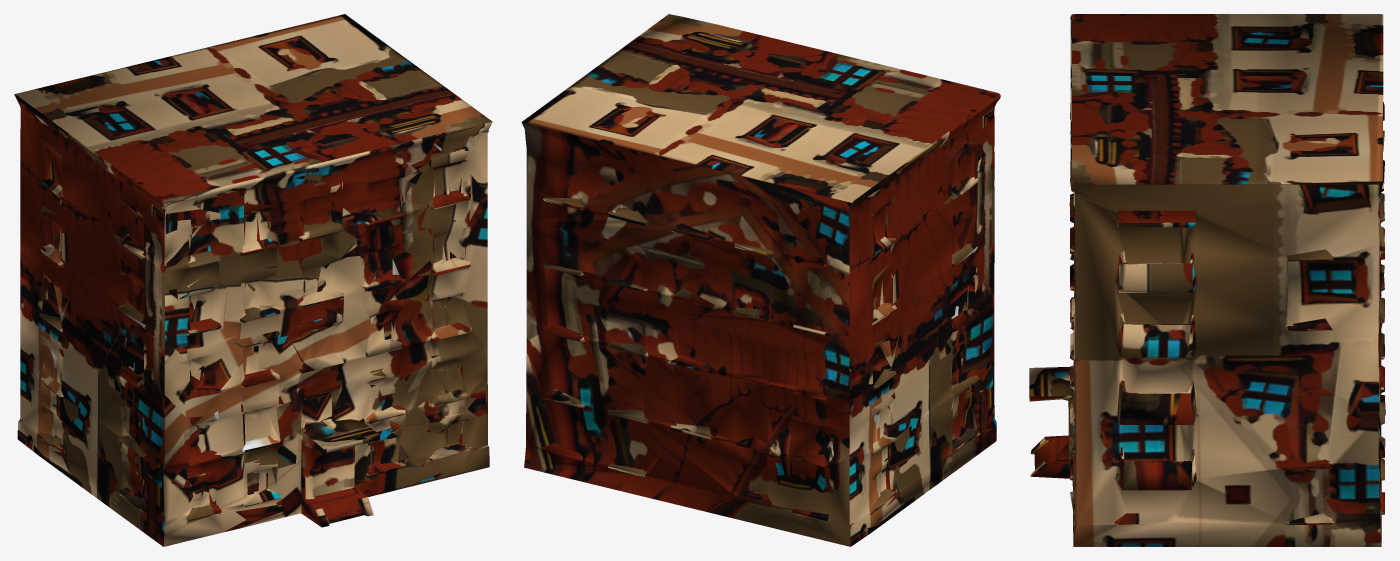
File: house4.fbx
3 renders of one model, left to right at view 1: azimuth 30°, elevation 25°; view 2: azimuth 150°, elevation 25°; view 3: azimuth 270°, elevation 25°, orthographic. The views are drawn at different scales.
Parts seen in each view (by area): view 1: tmps7gv_gls.ply; view 2: tmps7gv_gls.ply; view 3: tmps7gv_gls.ply.
Part boxes in pixels (x1,y1,x2,y2): tmps7gv_gls.ply: (14, 14, 492, 546); tmps7gv_gls.ply: (521, 14, 1000, 546); tmps7gv_gls.ply: (1029, 14, 1385, 546).
Size of the model in its own units: 1.98 by 1.88 by 1.66.
